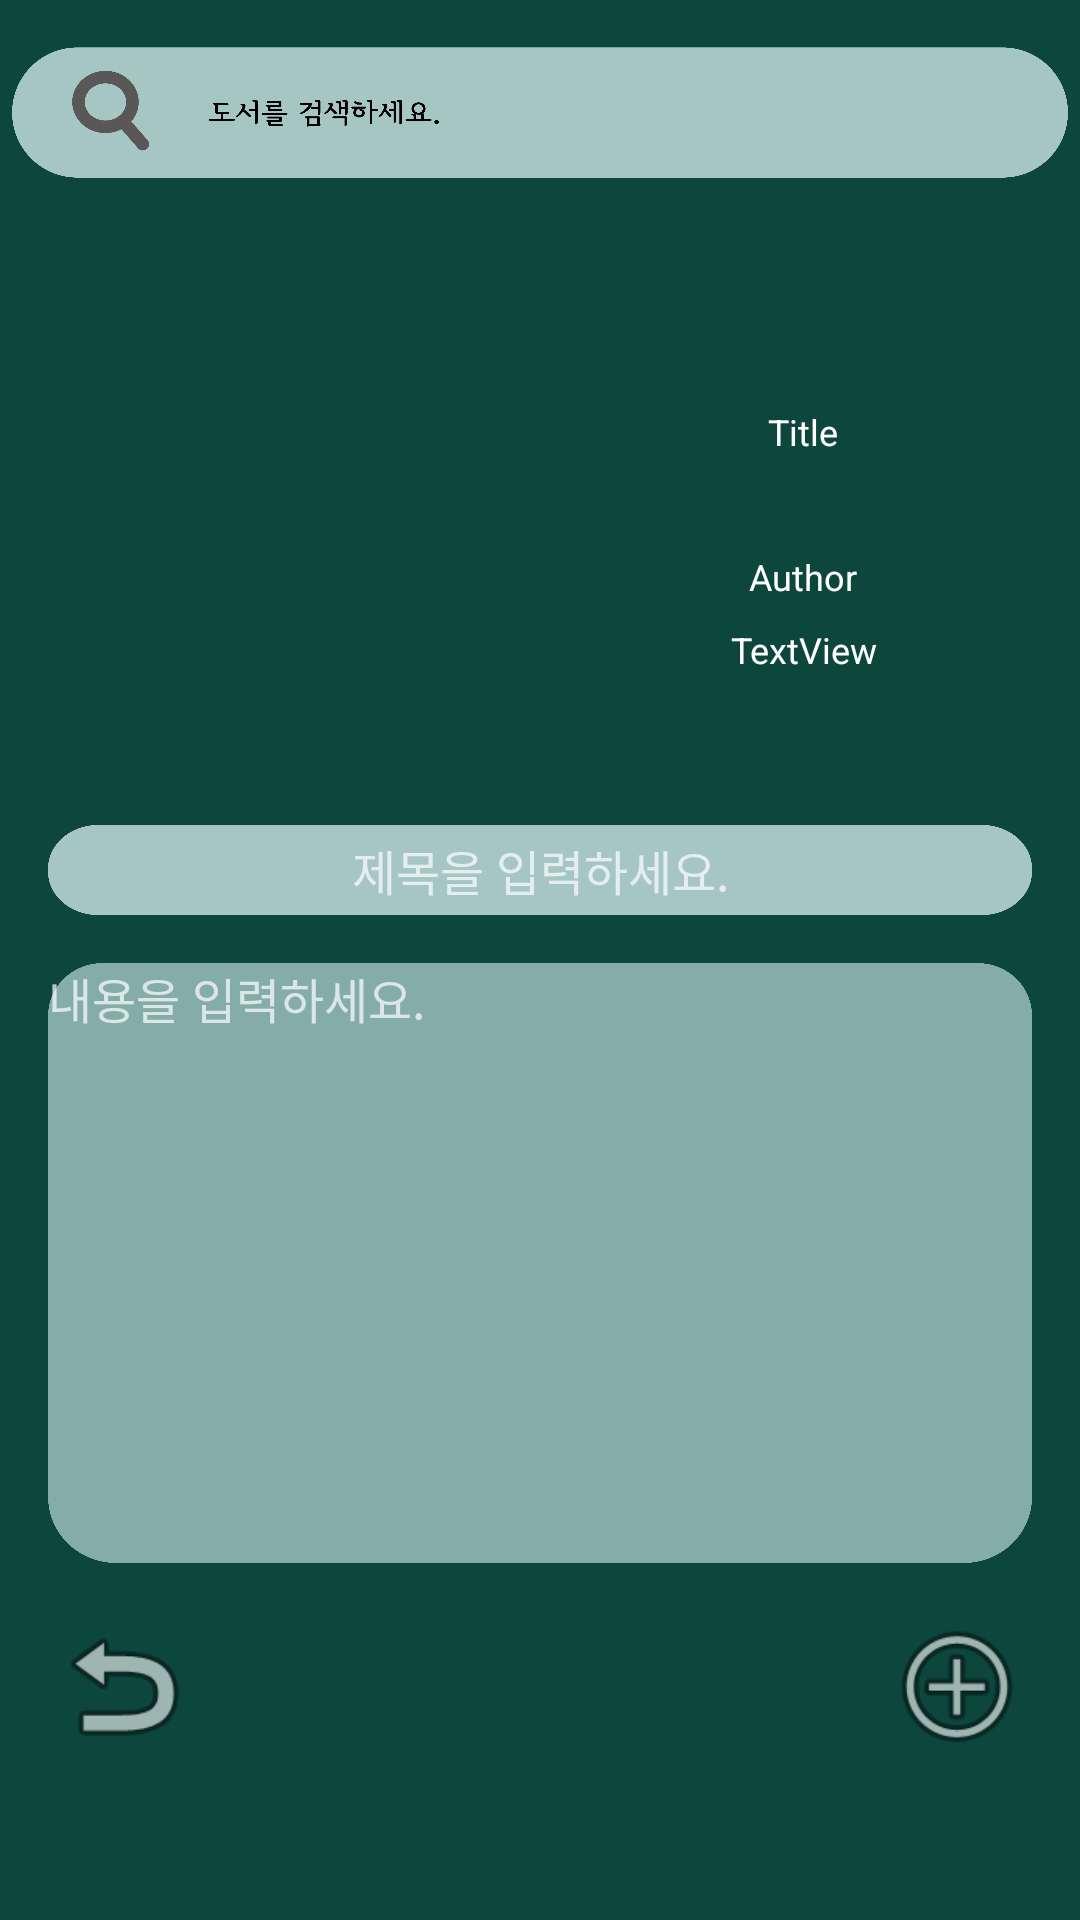

Named icons in this screenshot (1080px x 1920px) and their bounding boxes, (x1, y1, x2, y2):
add: (903, 1632, 1011, 1741)
revert: (72, 1640, 177, 1734)
